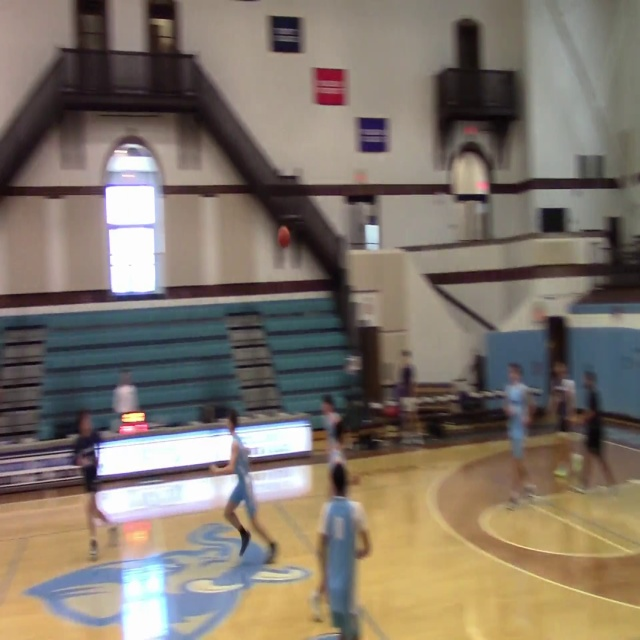Basketball: (277, 225, 291, 248)
